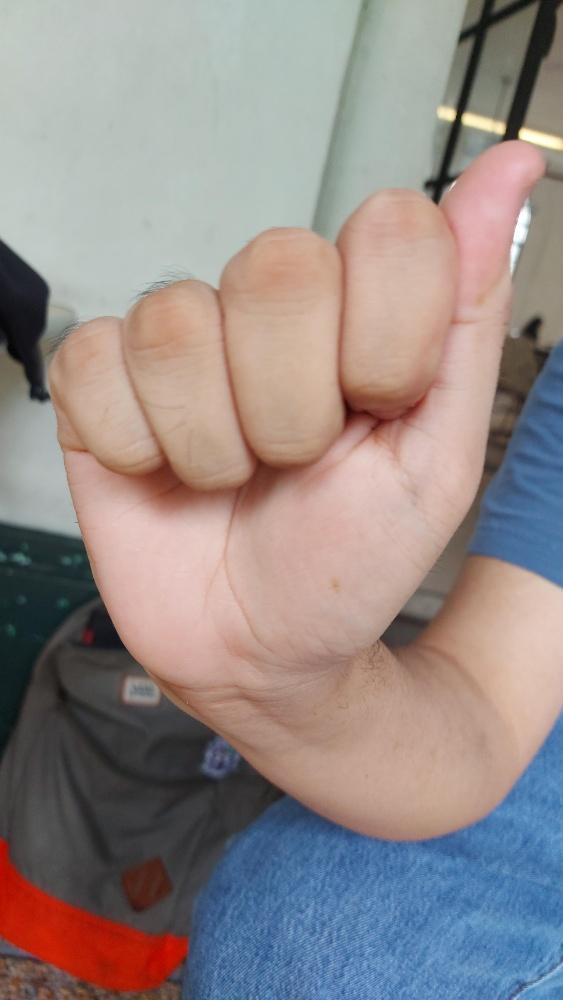a: (47, 138, 546, 694)
